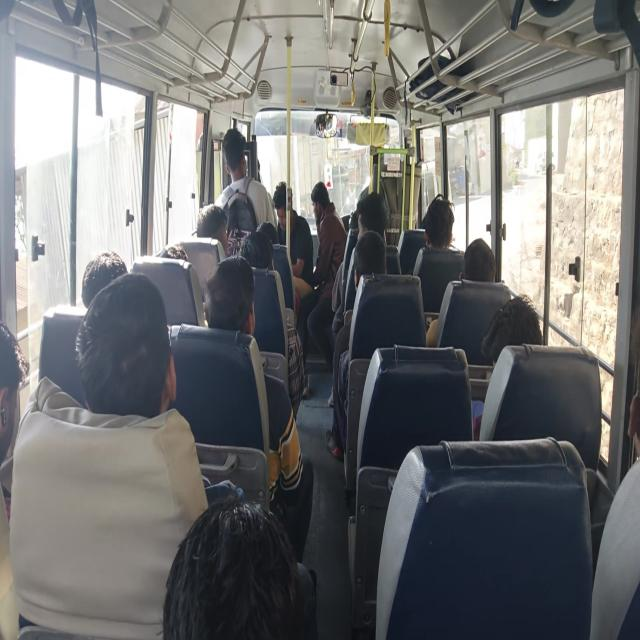person: (155, 512, 322, 640), (57, 300, 178, 406), (0, 321, 35, 534), (481, 295, 548, 369), (196, 270, 261, 345), (69, 247, 140, 314), (459, 237, 522, 302), (356, 225, 390, 286), (422, 199, 459, 250), (238, 229, 269, 275), (156, 232, 187, 278), (270, 180, 300, 223), (226, 136, 254, 182), (355, 187, 383, 233), (197, 196, 225, 238), (308, 182, 335, 225), (259, 217, 281, 244)
